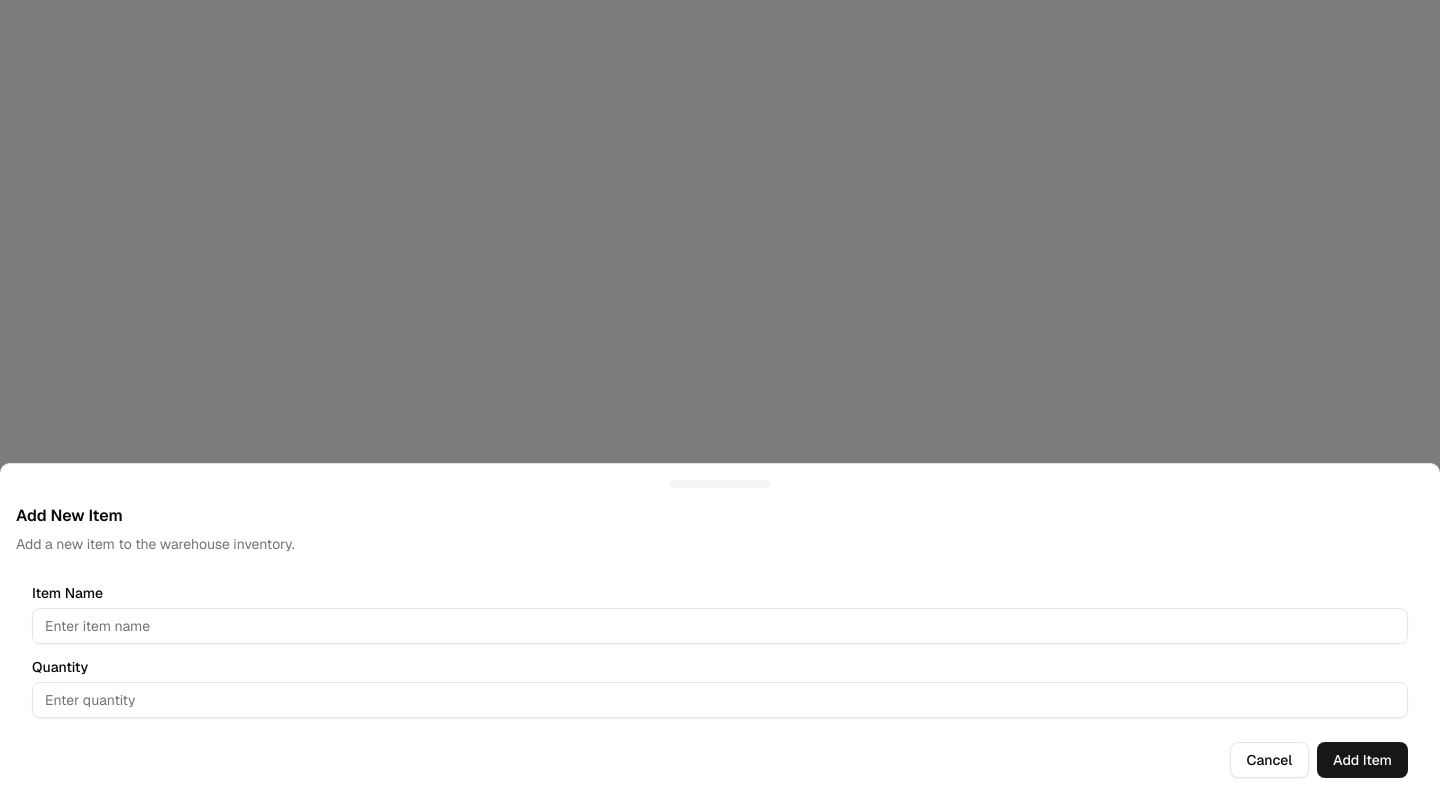
it: AddItemSheet › shows validation errors for empty fields
This screenshot has width=1440, height=810.
Step 1. Click the button "Add Item" → (1363, 760), box x1=1317 y1=742 x2=1408 y2=778
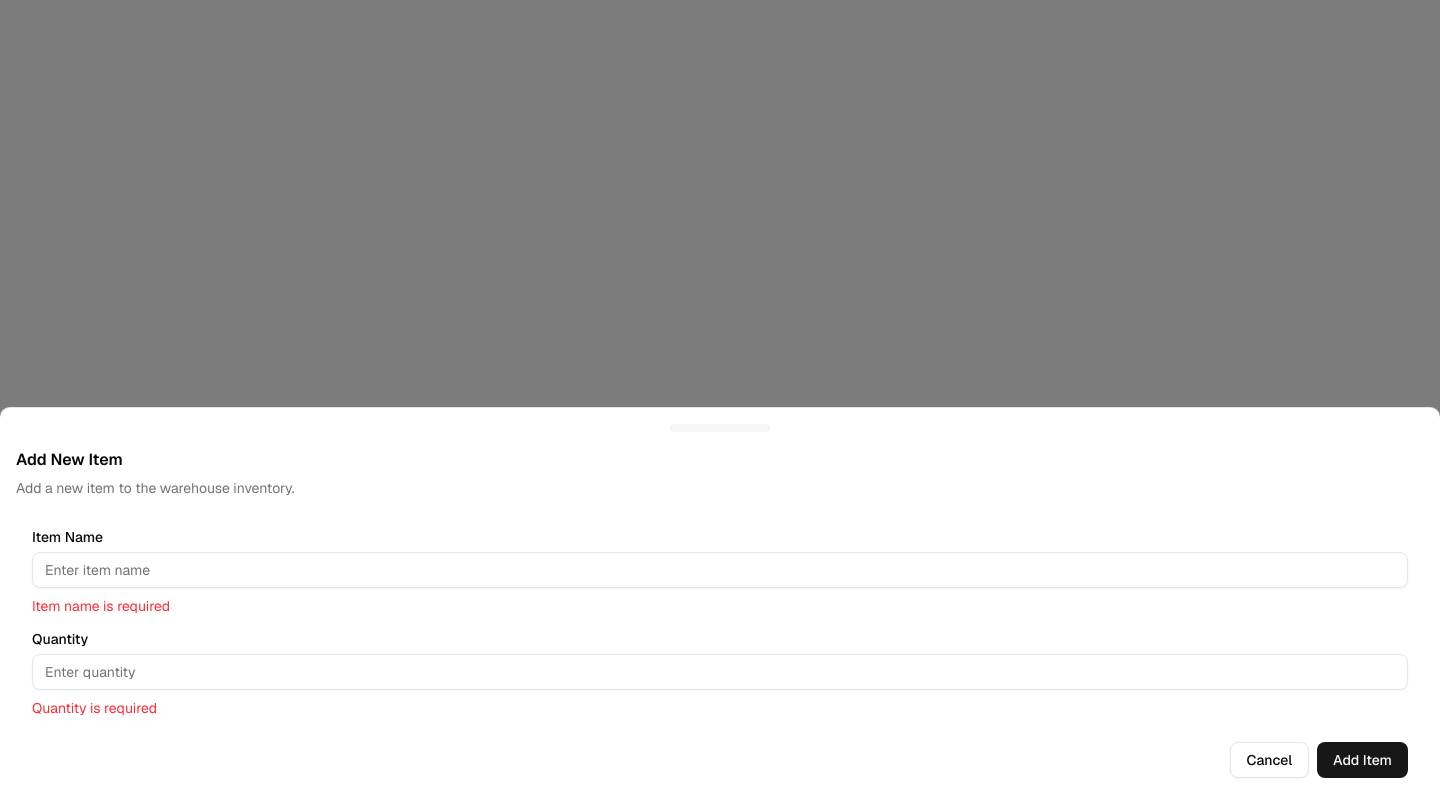
Expected: the text "Item name is required" is shown, x1=32 y1=597 x2=170 y2=615
Expected: the text "Quantity is required" is shown, x1=32 y1=699 x2=157 y2=717
